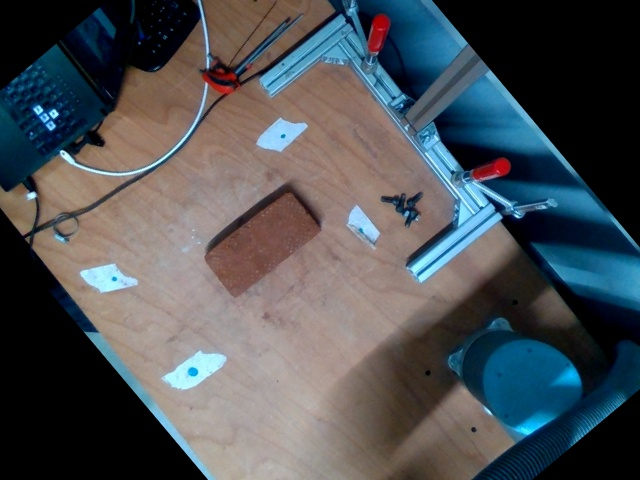brick: (204, 191, 321, 299)
